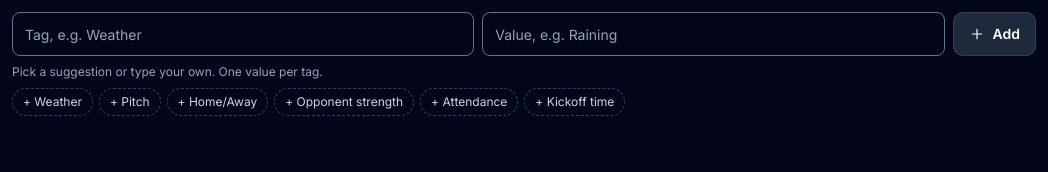
Test: TagInput › rejects an empty key, a missing value and a ":" in the key
Click the button "Add" at (994, 34), box 952,12 -> 1036,56
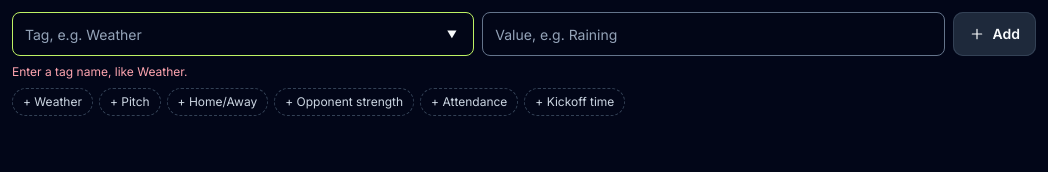
Now the text "Enter a tag name, like Weather." is shown, box 12,64 -> 188,79
Type "Kick:off" into the field labelled "Tag" at (243, 34), box 12,12 -> 474,56
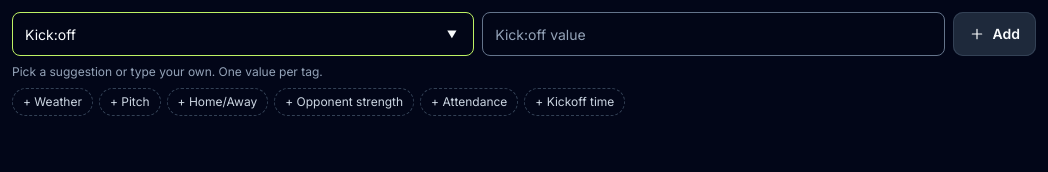
Click the button "Add" at (994, 34), box 952,12 -> 1036,56
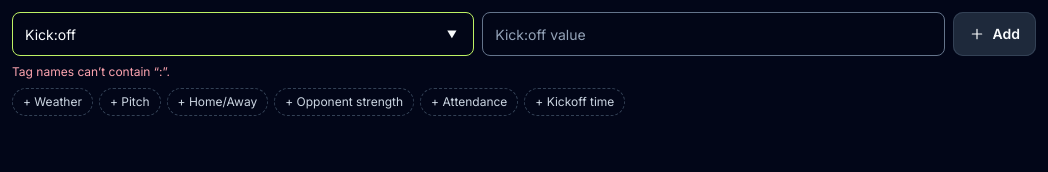
Now the text "Tag names can’t contain “:”." is shown, box 12,64 -> 170,79
Replace the text in the field named "Tag" with "Opponent" at (243, 34), box 12,12 -> 474,56
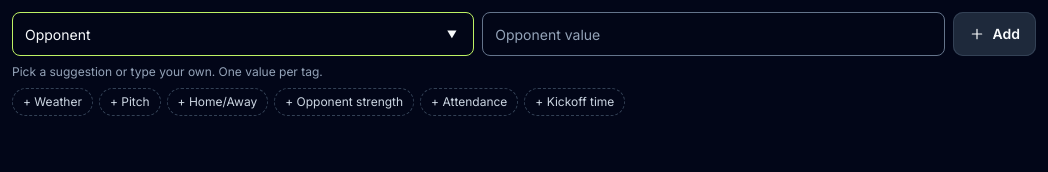
Click the button "Add" at (994, 34), box 952,12 -> 1036,56
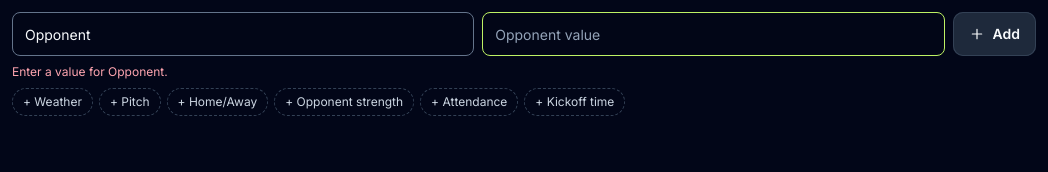
Now the text "Enter a value for Opponent." is shown, box 12,64 -> 168,79
